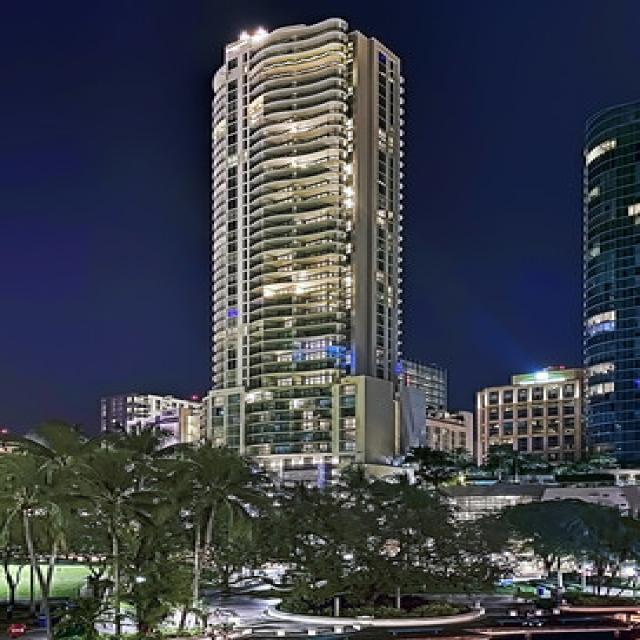Normal_building: (184, 15, 416, 486)
